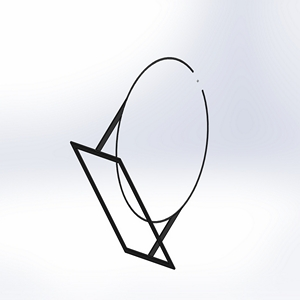circle: (69, 55, 210, 270)
